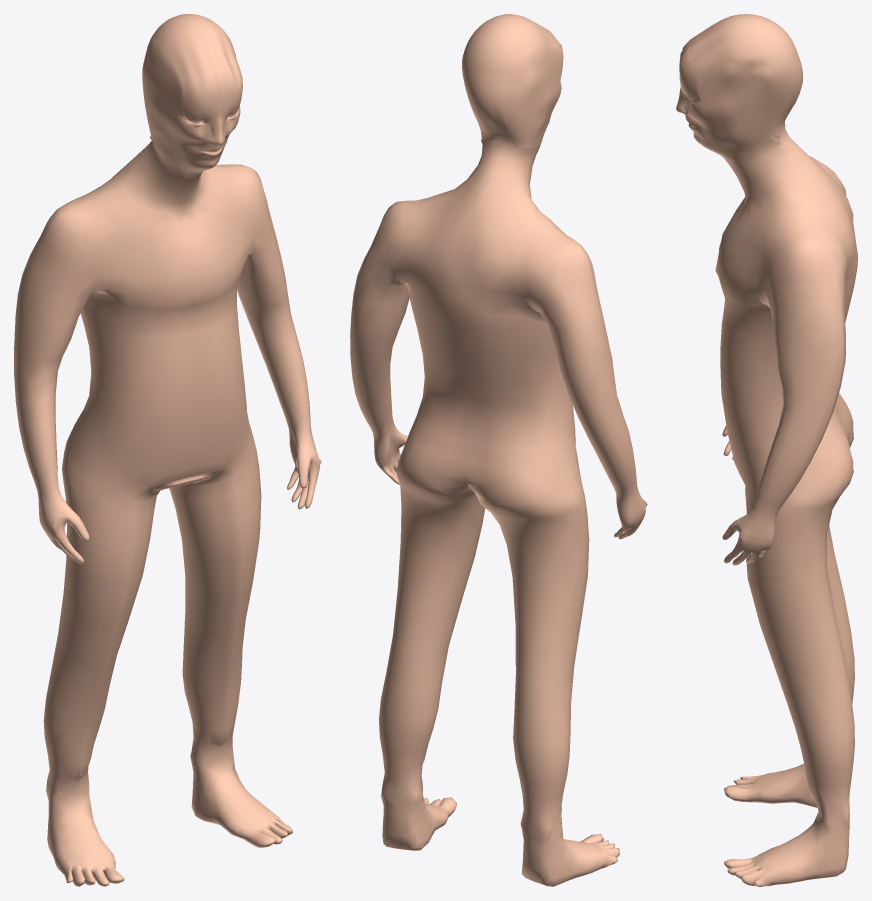
File: knight.obj
The picture shows the model from 3 angles, left to right: view 1: azimuth 30°, elevation 25°; view 2: azimuth 150°, elevation 25°; view 3: azimuth 270°, elevation 25°; orthographic projection. The views are drawn at different scales.
Parts seen in each view (by area): view 1: pSphere3; view 2: pSphere3; view 3: pSphere3.
Boxes of the visible parts, x1,y1,x2,y2 form: pSphere3: [14, 14, 321, 886]; pSphere3: [350, 14, 647, 886]; pSphere3: [676, 14, 857, 886].
Bounding box in the file's own units: 11.59 × 33.67 × 6.75.
